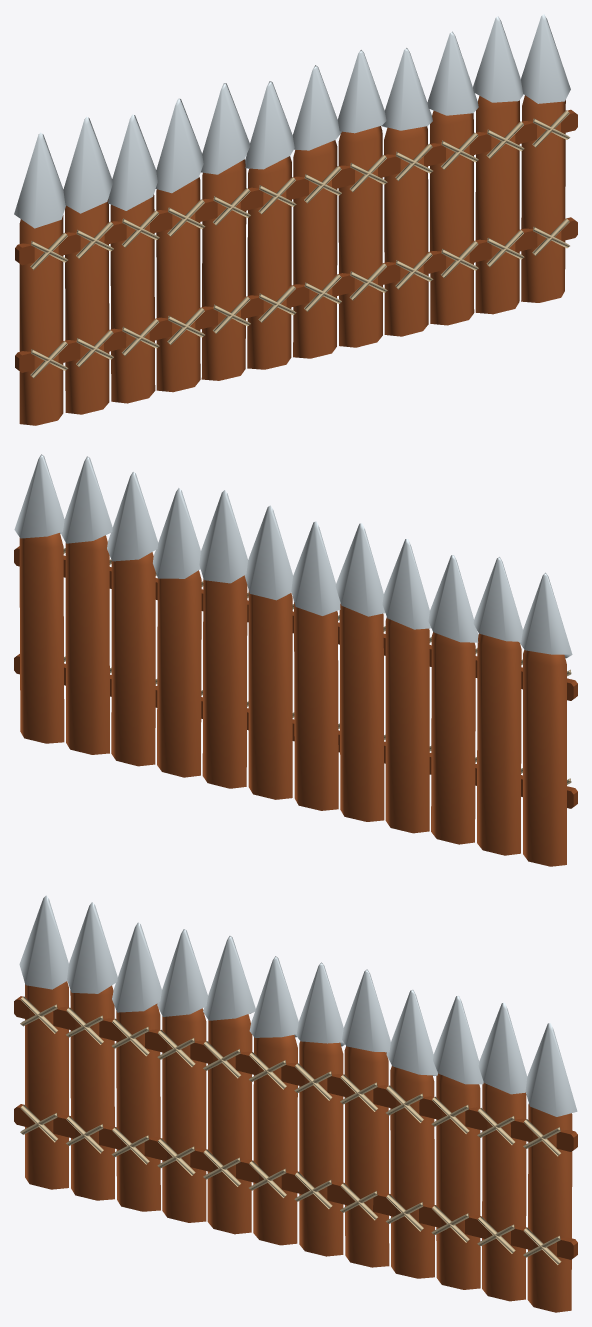
The model's file is fence_panel.obj.
3 views of the same model, one above another, from view 1: azimuth 30°, elevation 25°; view 2: azimuth 150°, elevation 25°; view 3: azimuth 330°, elevation 25° (orthographic).
Visible parts, largest first — view 1: fence_panel; view 2: fence_panel; view 3: fence_panel.
Boxes of the visible parts, box(x1,y1,x2,y2) form: fence_panel: box(14, 14, 577, 425); fence_panel: box(14, 454, 577, 866); fence_panel: box(14, 895, 577, 1312).
Size of the model in its own units: 2.94 by 1.47 by 0.1512.
